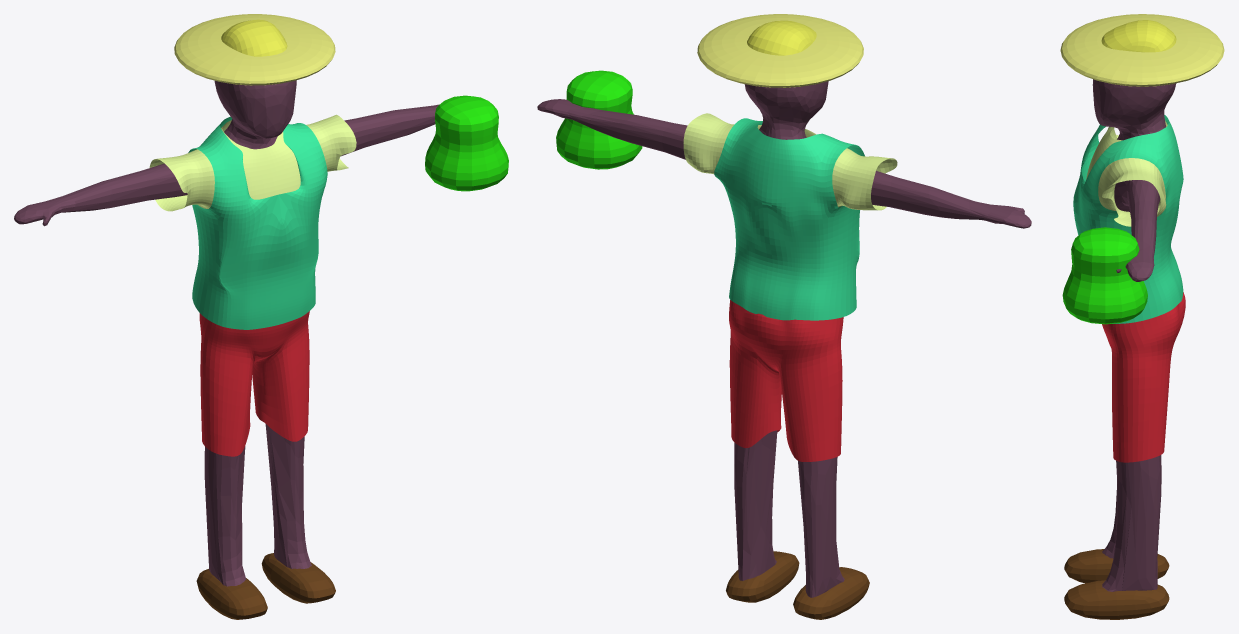
The model's file is Vendedor.fbx.
3 views of the same model, side by side, from view 1: azimuth 30°, elevation 25°; view 2: azimuth 150°, elevation 25°; view 3: azimuth 270°, elevation 25° (orthographic). The views are drawn at different scales.
Parts seen in each view (by area): view 1: Sphere, Sphere.002, Sphere.001, Esfera, Sphere.003, Cubo.002, Cubo, Cubo.001; view 2: Sphere.002, Sphere, Sphere.001, Esfera, Cubo.002, Sphere.003, Cubo, Cubo.001; view 3: Sphere, Sphere.001, Sphere.002, Esfera, Cubo.002, Cubo, Sphere.003, Cubo.001.
Boxes of the visible parts, x1,y1,x2,y2 form: Sphere: [14, 80, 439, 586]; Sphere.002: [188, 116, 327, 329]; Sphere.001: [199, 311, 309, 456]; Esfera: [174, 14, 335, 85]; Sphere.003: [149, 114, 356, 211]; Cubo.002: [425, 95, 508, 191]; Cubo: [196, 553, 335, 619]; Cubo.001: [221, 19, 287, 56]; Sphere.002: [714, 118, 864, 320]; Sphere: [537, 81, 1031, 597]; Sphere.001: [729, 300, 843, 461]; Esfera: [697, 14, 863, 87]; Cubo.002: [556, 70, 642, 169]; Sphere.003: [683, 113, 897, 210]; Cubo: [726, 551, 869, 619]; Cubo.001: [747, 20, 816, 55]; Sphere: [1092, 79, 1176, 591]; Sphere.001: [1102, 292, 1185, 462]; Sphere.002: [1073, 115, 1183, 323]; Esfera: [1060, 14, 1224, 86]; Cubo.002: [1062, 227, 1147, 324]; Cubo: [1064, 549, 1169, 619]; Sphere.003: [1086, 120, 1167, 226]; Cubo.001: [1101, 20, 1176, 52].
Size of the model in its own units: 434 by 493 by 128.
